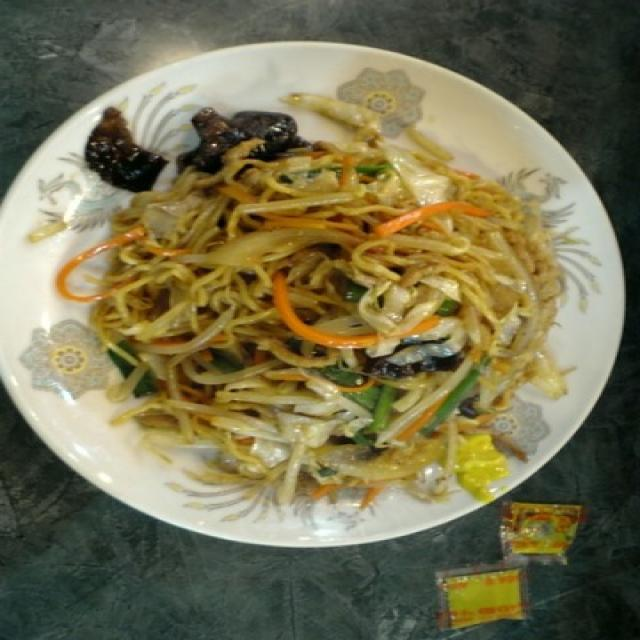面条主食: (7, 96, 640, 525)
